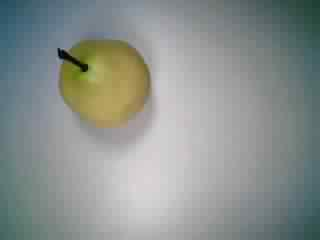pear: (46, 24, 154, 129)
